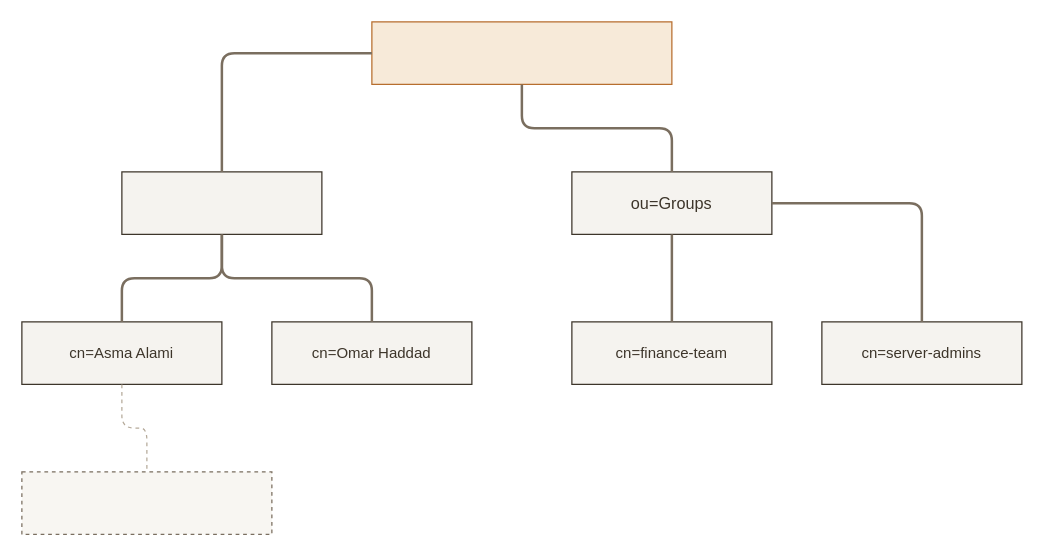
Image size: 1044x556. Some labels were removed from this diagram. The shapes that lost their labels are listed below. From the top down, each one's centre as x and y in pixels, then its label:
At pixel 521 52: "dc=example, dc=com".
At pixel 221 202: "ou=People".
At pixel 146 502: "uid, mail, memberOf (attributes on an entry)".
